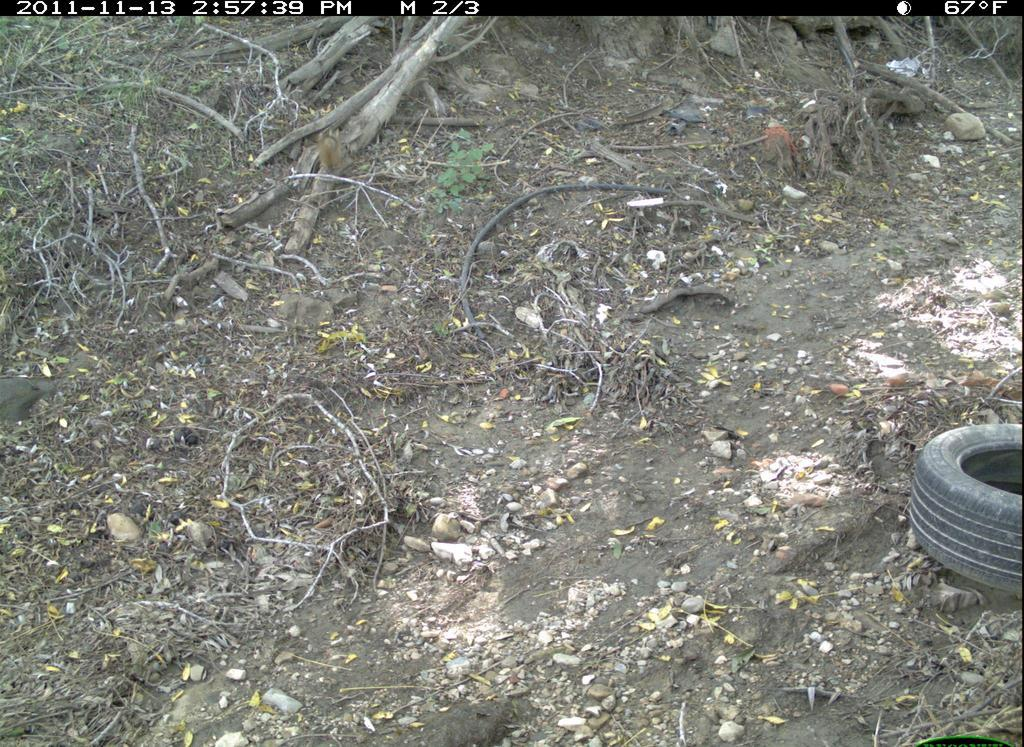squirrel: (313, 125, 349, 172)
